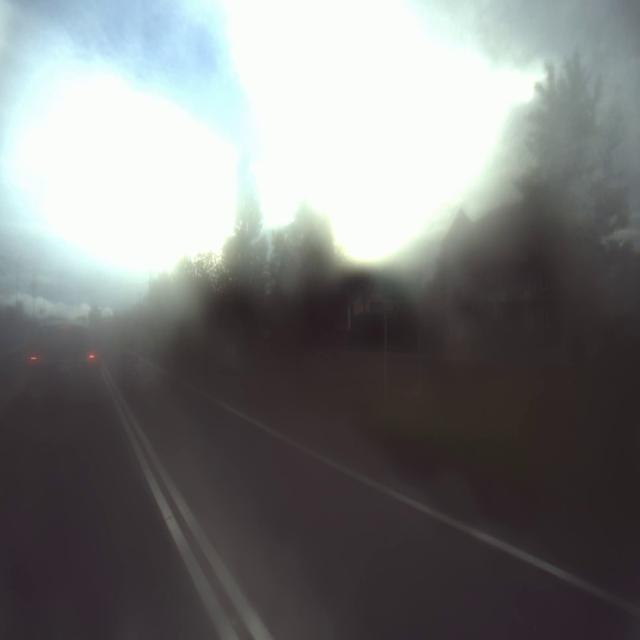car: (19, 304, 103, 422)
